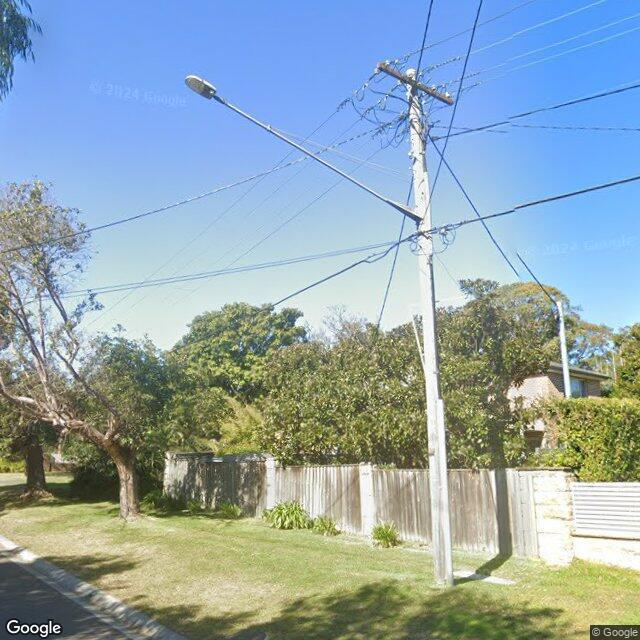crossarm: (376, 61, 456, 106)
steel-pole: (556, 302, 572, 398)
streetlight: (184, 77, 421, 224)
timber-pole: (406, 69, 452, 584)
